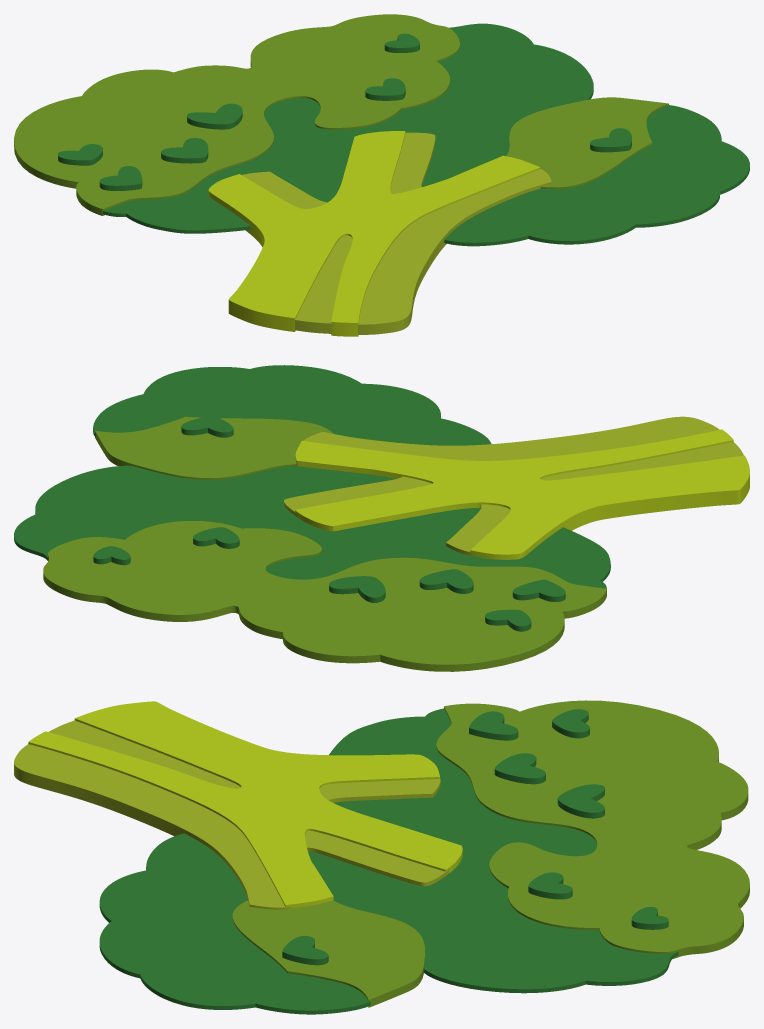
File: emoji_u1f966.glb
3 renders of one model, top to bottom at view 1: azimuth 30°, elevation 25°; view 2: azimuth 150°, elevation 25°; view 3: azimuth 270°, elevation 25°, orthographic. The views are drawn at different scales.
Visible parts, largest first — view 1: emoji_u1f966; view 2: emoji_u1f966; view 3: emoji_u1f966.
Boxes of the visible parts, box(x1,y1,x2,y2) form: emoji_u1f966: box(14, 14, 749, 336); emoji_u1f966: box(14, 365, 749, 671); emoji_u1f966: box(14, 700, 749, 1014).
Bounding box in the file's own units: 0.0339 × 0.001 × 0.0342.
